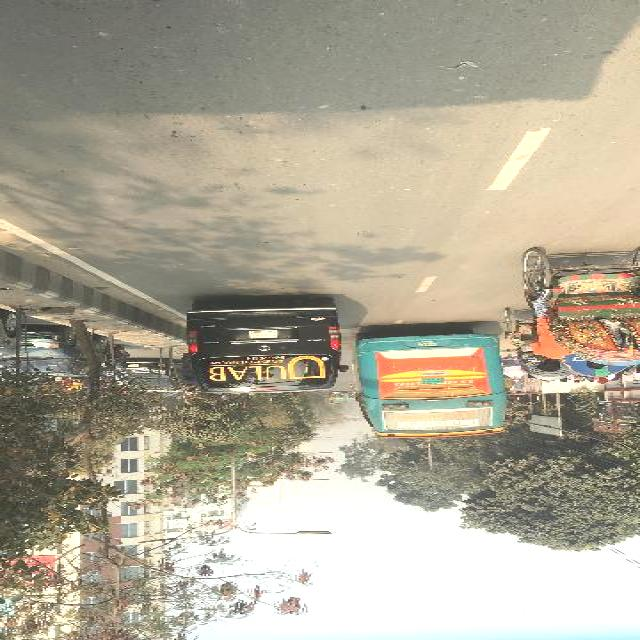black: (182, 306, 344, 392)
